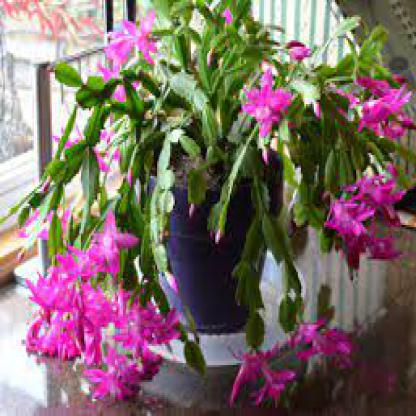Aglonema: (53, 169, 360, 378)
